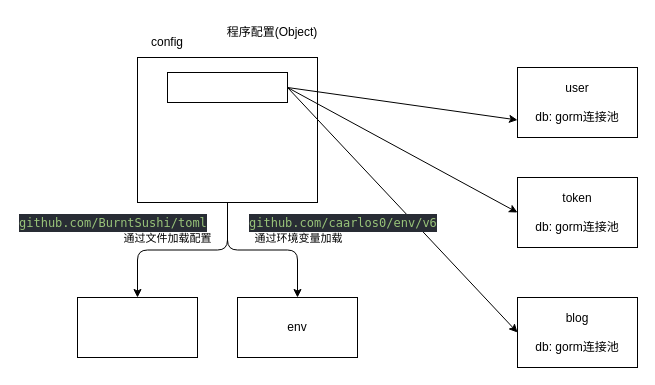
The diagram is 655 pixels wide and 385 high, and some of its shapes have lost their labels. Here are the shapes that lost their labels. From the top down, the centre of each, then its label:
(x=227, y=87): MySQL: db
(x=137, y=327): file
